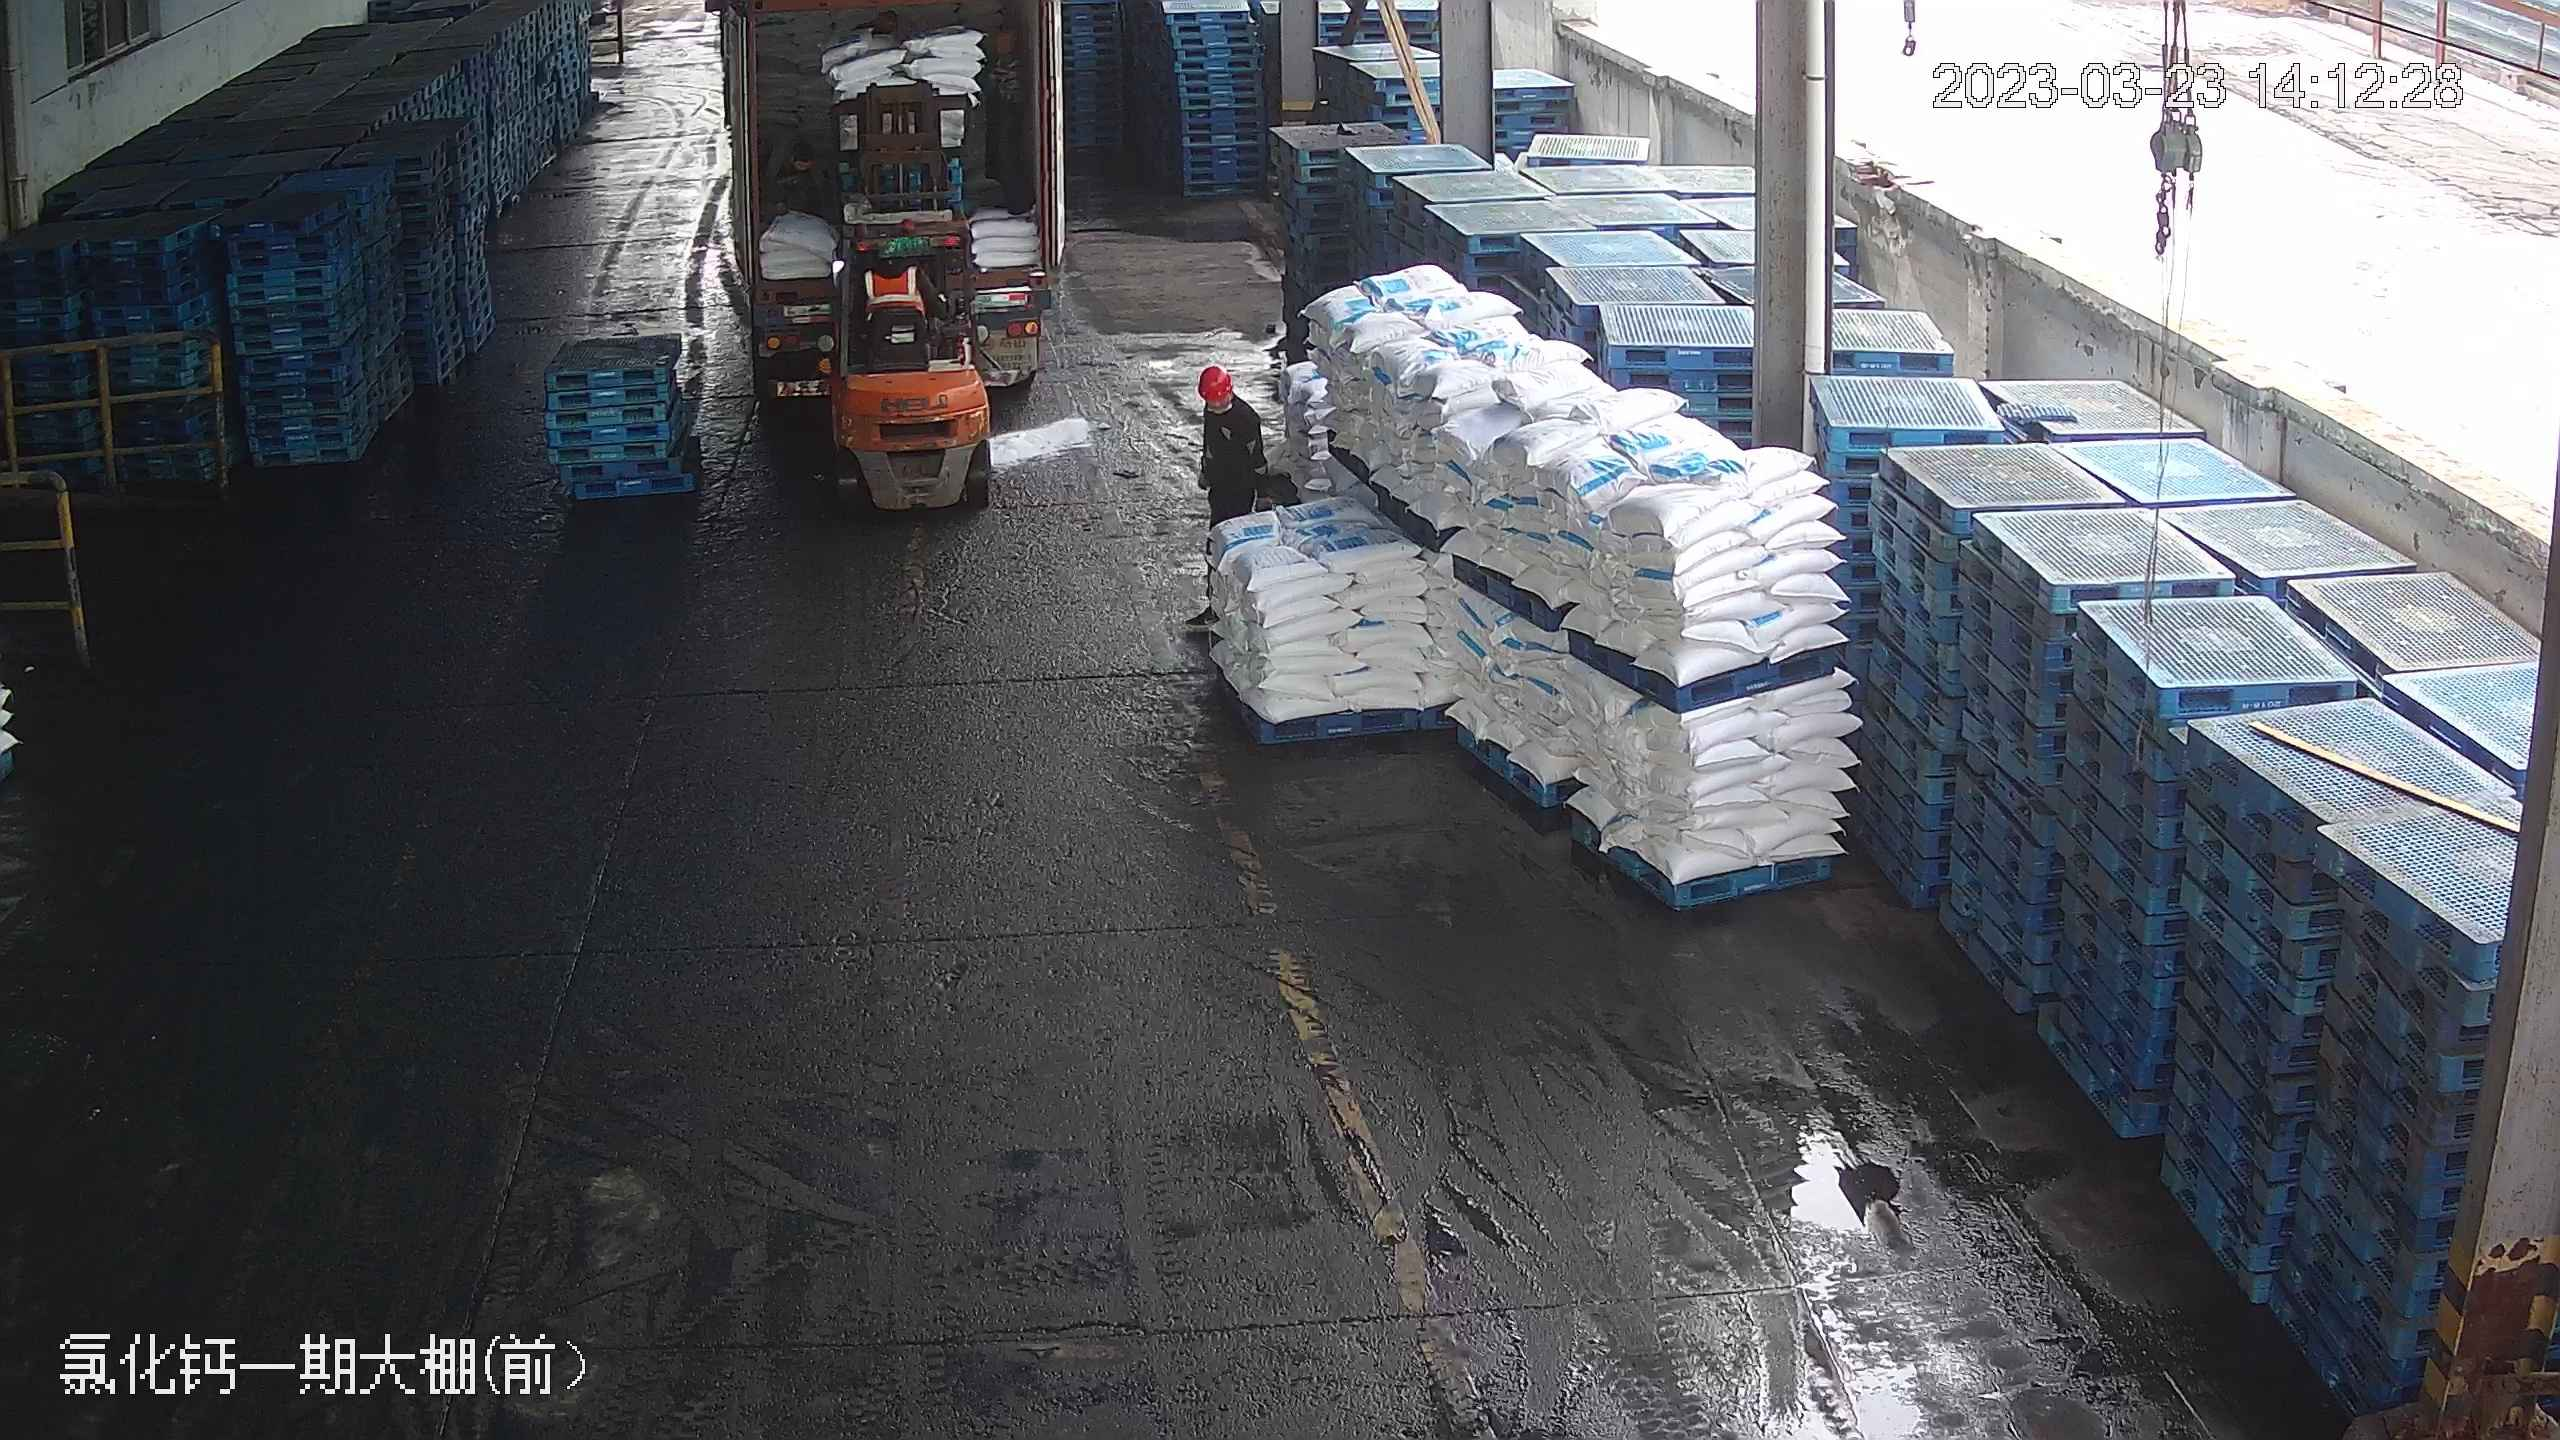head: (1194, 365, 1263, 446), (986, 27, 1026, 91)
helmet: (1196, 364, 1237, 400)
people: (1194, 359, 1281, 522), (980, 24, 1038, 216)
truck: (704, 1, 1077, 422)
